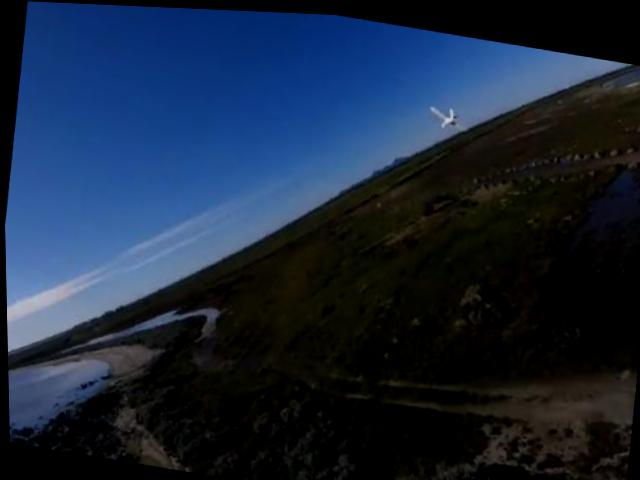uav: (428, 96, 478, 133)
